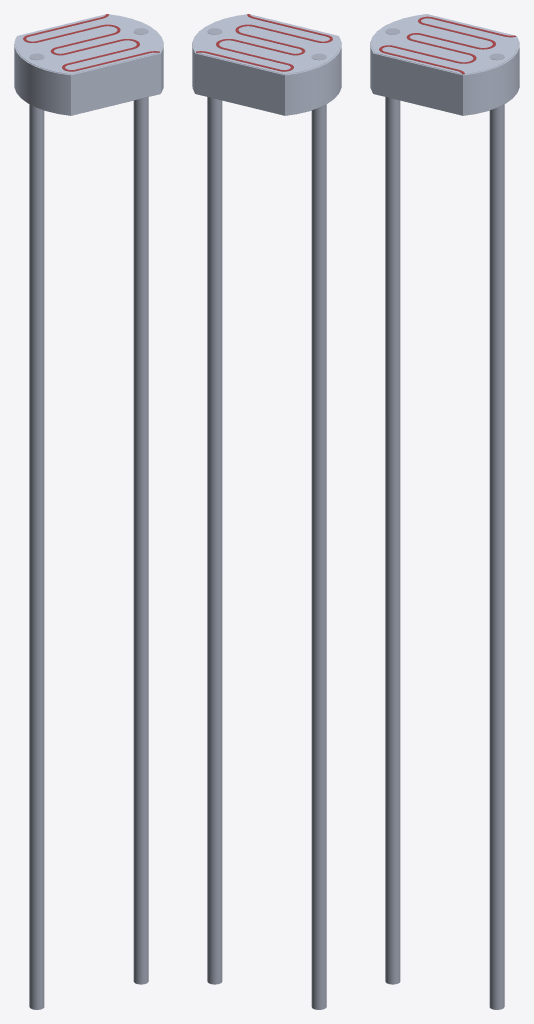
File: sensor_ldr.glb
The picture shows the model from 3 angles, left to right: view 1: azimuth 30°, elevation 25°; view 2: azimuth 150°, elevation 25°; view 3: azimuth 330°, elevation 25°; orthographic projection.
Parts seen in each view (by area): view 1: currentmodel.wrl.cleaner.materialmerger.gles; view 2: currentmodel.wrl.cleaner.materialmerger.gles; view 3: currentmodel.wrl.cleaner.materialmerger.gles.
Boxes of the visible parts, left/top/right/bottom form: currentmodel.wrl.cleaner.materialmerger.gles: left=14, top=14, right=163, bottom=1009; currentmodel.wrl.cleaner.materialmerger.gles: left=192, top=14, right=341, bottom=1009; currentmodel.wrl.cleaner.materialmerger.gles: left=370, top=14, right=519, bottom=1009.
Size of the model in its own units: 4.98 by 35.01 by 3.6.
